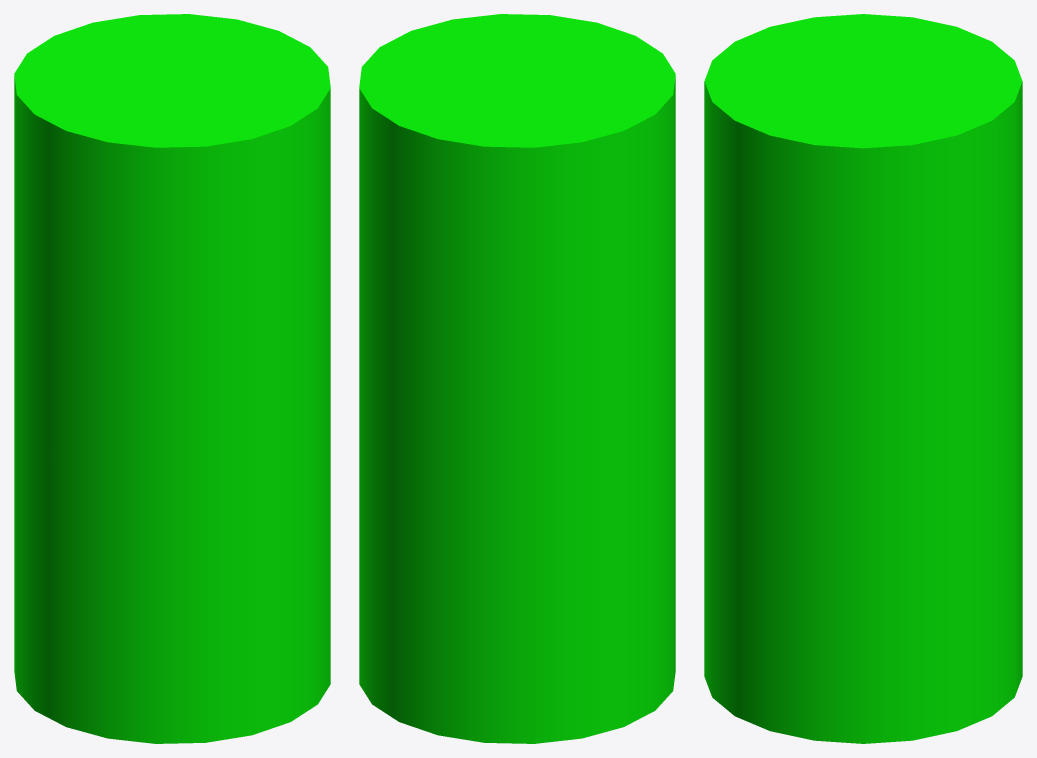
Rendered from arm.obj.
3 renders of one model, left to right at view 1: azimuth 30°, elevation 25°; view 2: azimuth 150°, elevation 25°; view 3: azimuth 270°, elevation 25°, orthographic.
Parts seen in each view (by area): view 1: L_arm1; view 2: L_arm1; view 3: L_arm1.
Boxes of the visible parts, bbox=[...] form: L_arm1: bbox=[14, 14, 330, 743]; L_arm1: bbox=[359, 14, 675, 743]; L_arm1: bbox=[704, 14, 1022, 743].
Size of the model in its own units: 0.2553 by 0.5276 by 0.2553.
